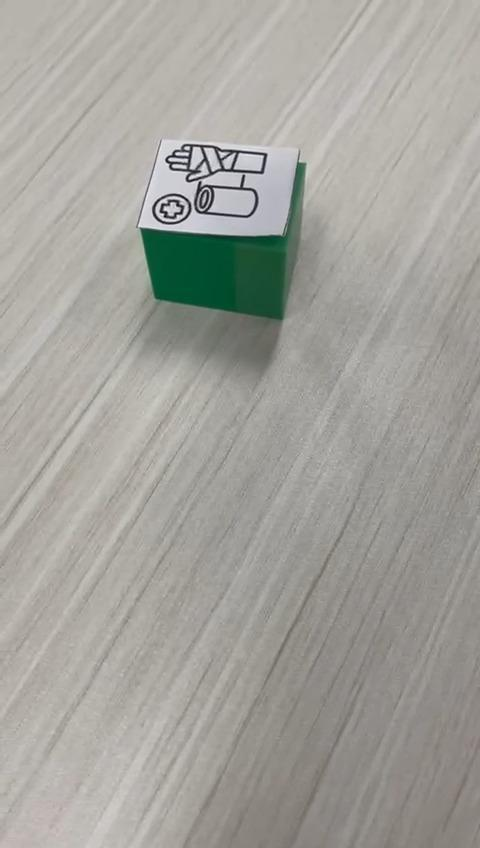Bandages: (137, 138, 306, 321)
